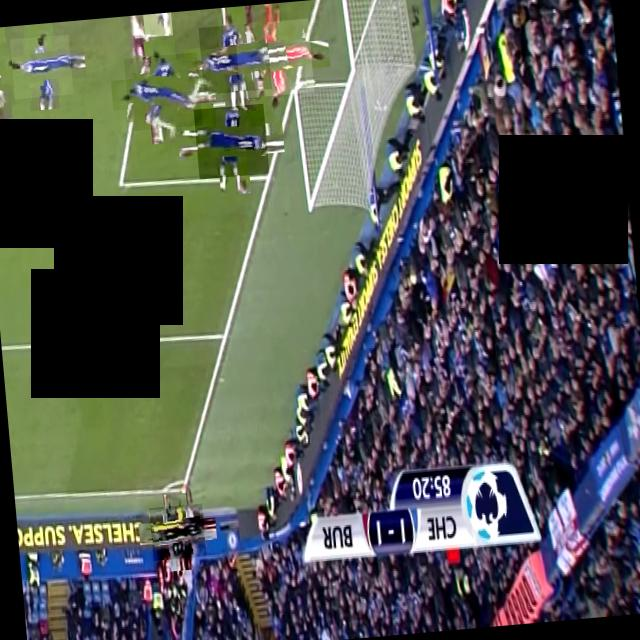goalkeeper: (234, 18, 314, 98)
referee: (149, 503, 206, 560)
soccer-player: (124, 52, 202, 131), (193, 103, 269, 179), (198, 22, 272, 94), (10, 34, 74, 99), (0, 40, 30, 109), (142, 12, 172, 37)
